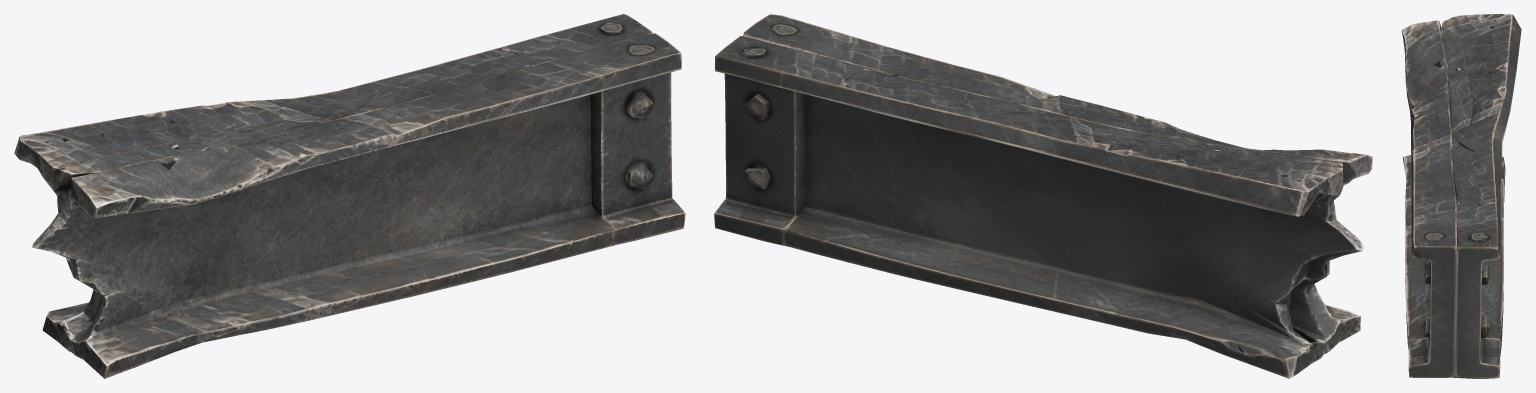
The model's file is shared_rubble_kit__girder_short_broken_lod1.glb.
3 views of the same model, side by side, from view 1: azimuth 30°, elevation 25°; view 2: azimuth 150°, elevation 25°; view 3: azimuth 270°, elevation 25° (orthographic). The views are drawn at different scales.
Parts seen in each view (by area): view 1: mesh_node; view 2: mesh_node; view 3: mesh_node.
Part boxes in pixels (x1,y1,x2,y2): mesh_node: (14,14,685,378); mesh_node: (714,14,1372,378); mesh_node: (1401,14,1521,378).
Bounding box in the file's own units: 3.05 × 0.9155 × 0.6723.
Materials: 1 (1 with a texture image).
